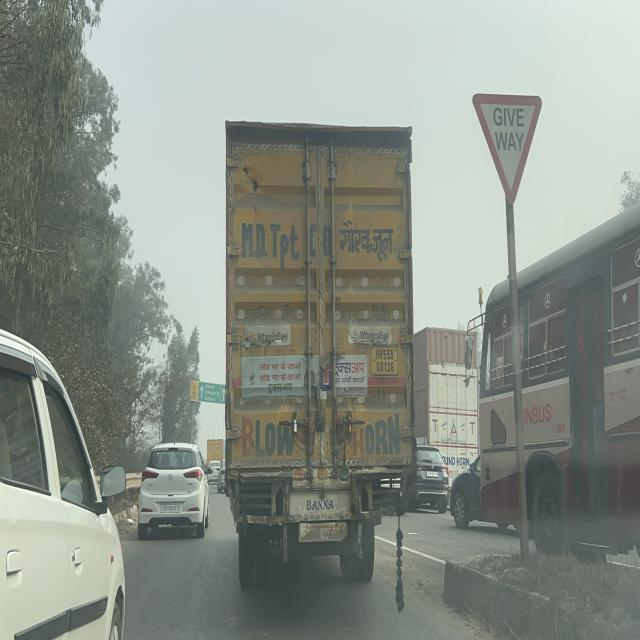GENERAL: (190, 380, 225, 404)
